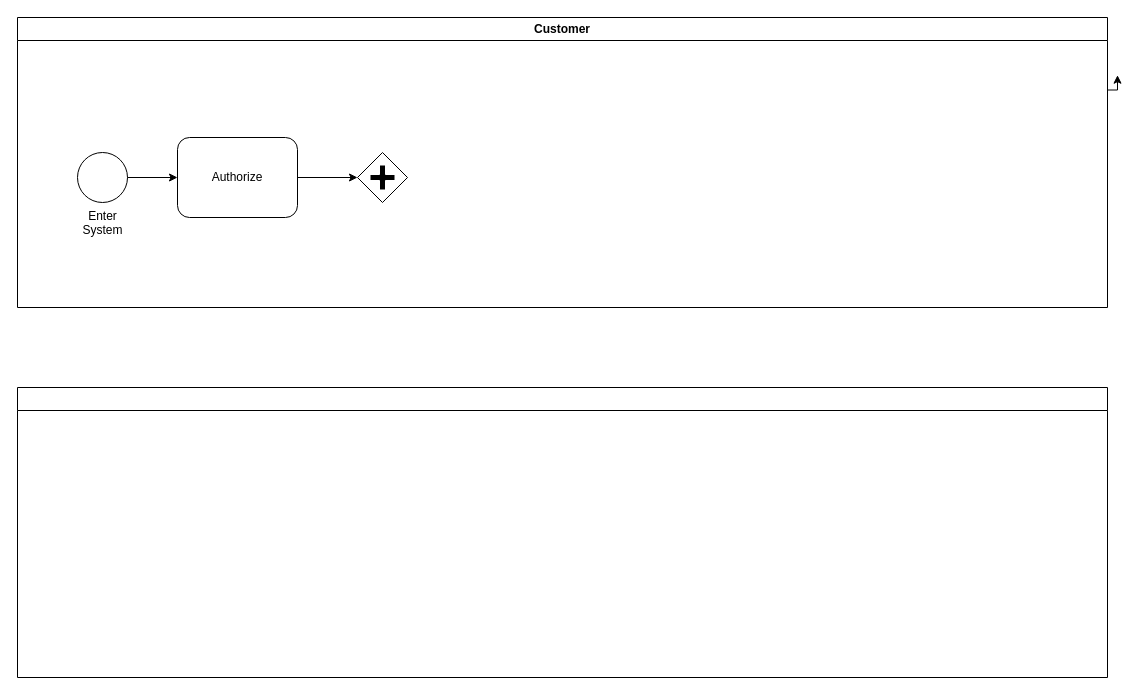
Image size: 1143x695. Some labels were removed from this diagram. Each missing label, with the centre of its shape:
"Admin" goes at [562,532].
"Are you authorized?" goes at [382,177].
